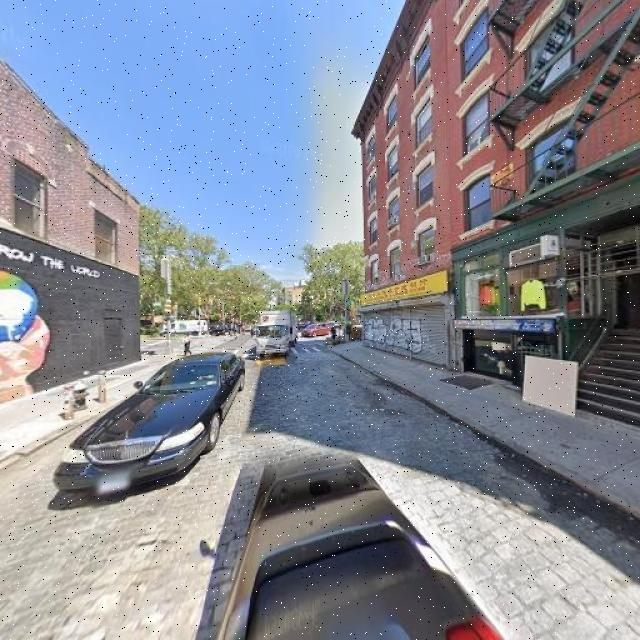Building: (450, 1, 640, 424), (1, 73, 138, 404), (365, 1, 447, 367)
